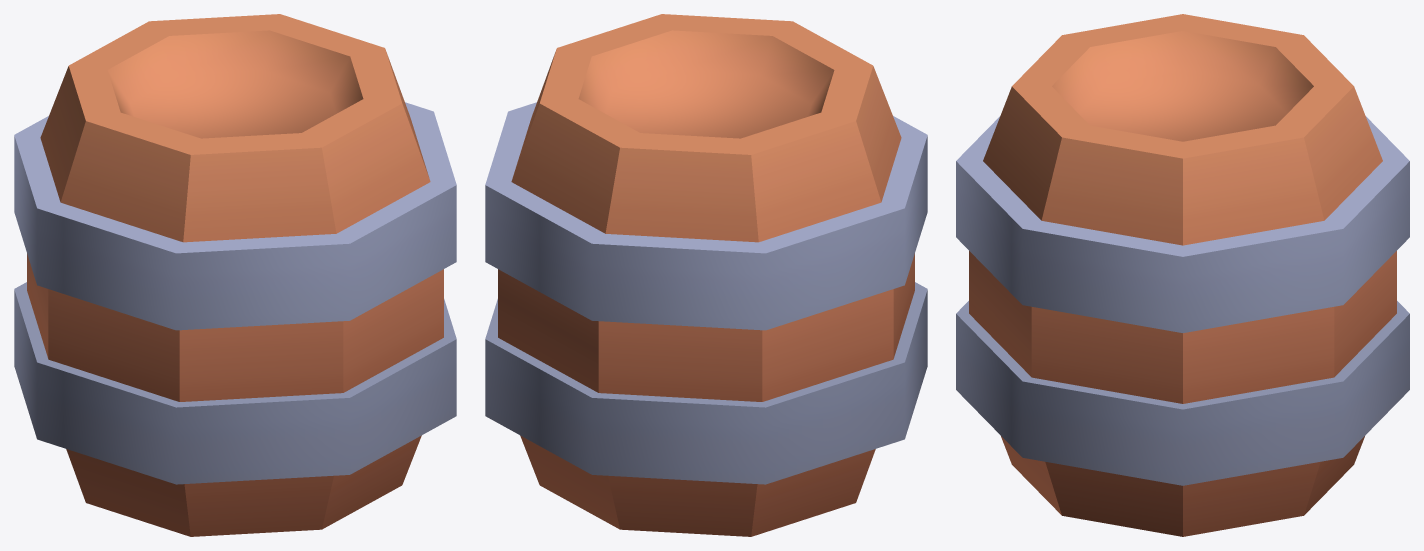
The model's file is k-pirate-barrel.glb.
The picture shows the model from 3 angles, left to right: view 1: azimuth 30°, elevation 25°; view 2: azimuth 150°, elevation 25°; view 3: azimuth 270°, elevation 25°; orthographic projection.
Visible parts, largest first — view 1: barrel; view 2: barrel; view 3: barrel.
Part boxes in pixels (x1=…): barrel: x1=14, y1=14, x2=456, y2=536; barrel: x1=485, y1=14, x2=927, y2=536; barrel: x1=956, y1=14, x2=1409, y2=536.
Size of the model in its own units: 1.34 by 1.23 by 1.34.
1 material, 1 textured.
